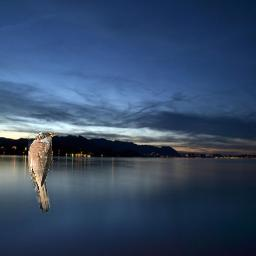Cuckoo: (28, 132, 57, 213)
